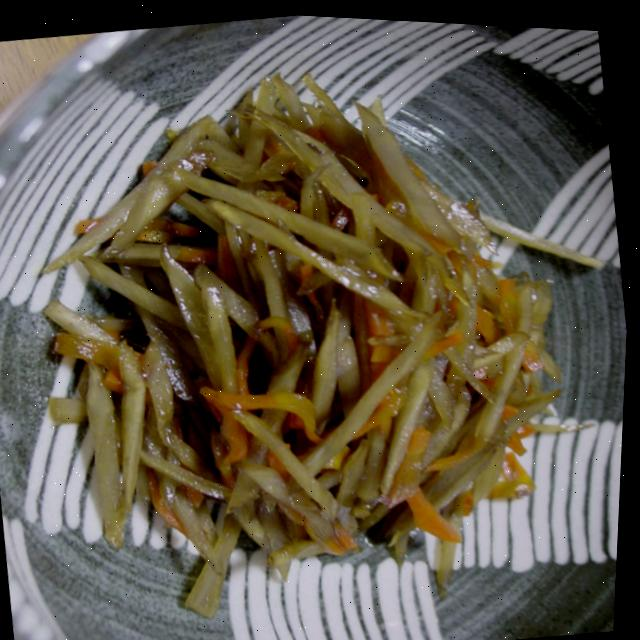蔬菜料理: (25, 59, 615, 608)
